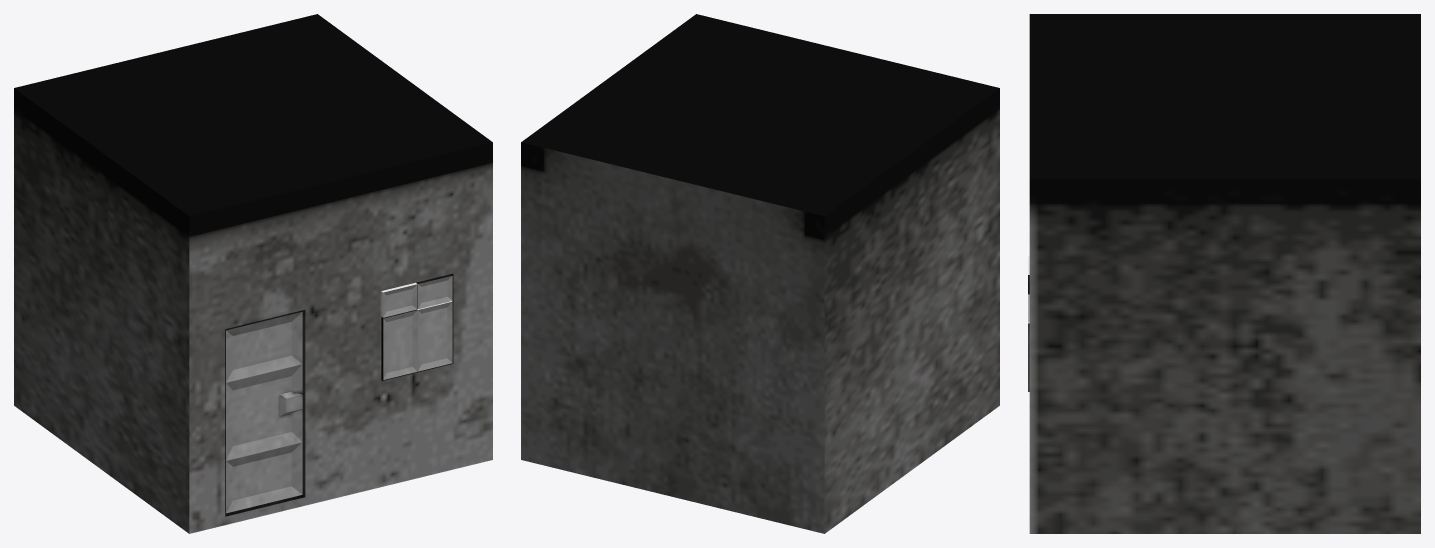
File: slum_room.glb
3 renders of one model, left to right at view 1: azimuth 30°, elevation 25°; view 2: azimuth 150°, elevation 25°; view 3: azimuth 270°, elevation 25°, orthographic. The views are drawn at different scales.
Visible parts, largest first — view 1: Object_24; view 2: Object_24; view 3: Object_24.
Boxes of the visible parts, x1=… form: Object_24: x1=14, y1=14, x2=492, y2=533; Object_24: x1=521, y1=14, x2=999, y2=533; Object_24: x1=1028, y1=14, x2=1420, y2=533.
Bounding box in the file's own units: 3.2 × 3.2 × 3.21.
1 material, 1 textured.
